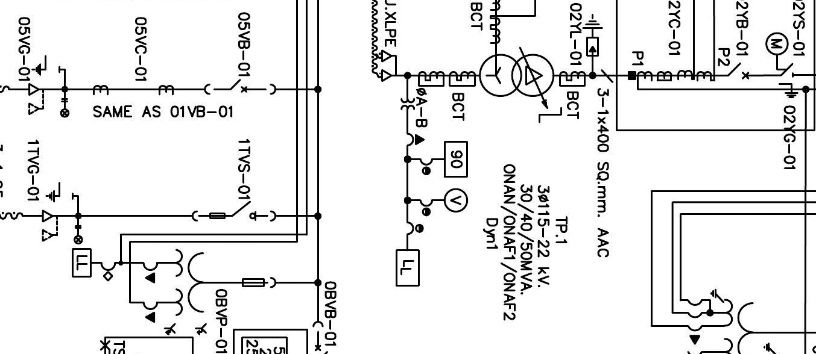11522_tx_dyn1: (478, 53, 555, 98)
115_3ways_ds_w_motor: (765, 31, 799, 99)
115_breaker: (727, 62, 750, 80)
115_la: (581, 13, 604, 57)
22_breaker: (204, 78, 277, 96)
22_ds: (191, 200, 277, 222)
22_gs: (31, 54, 61, 76), (45, 181, 74, 203)
22_ll: (60, 98, 70, 118), (74, 225, 83, 245)
22_vt_3p: (142, 248, 277, 336)
LL: (395, 249, 420, 287), (71, 248, 92, 278)
terminator_double: (381, 50, 397, 82)
terminator_w_future: (28, 82, 45, 116), (42, 209, 58, 243)
v_m: (443, 187, 469, 213)
